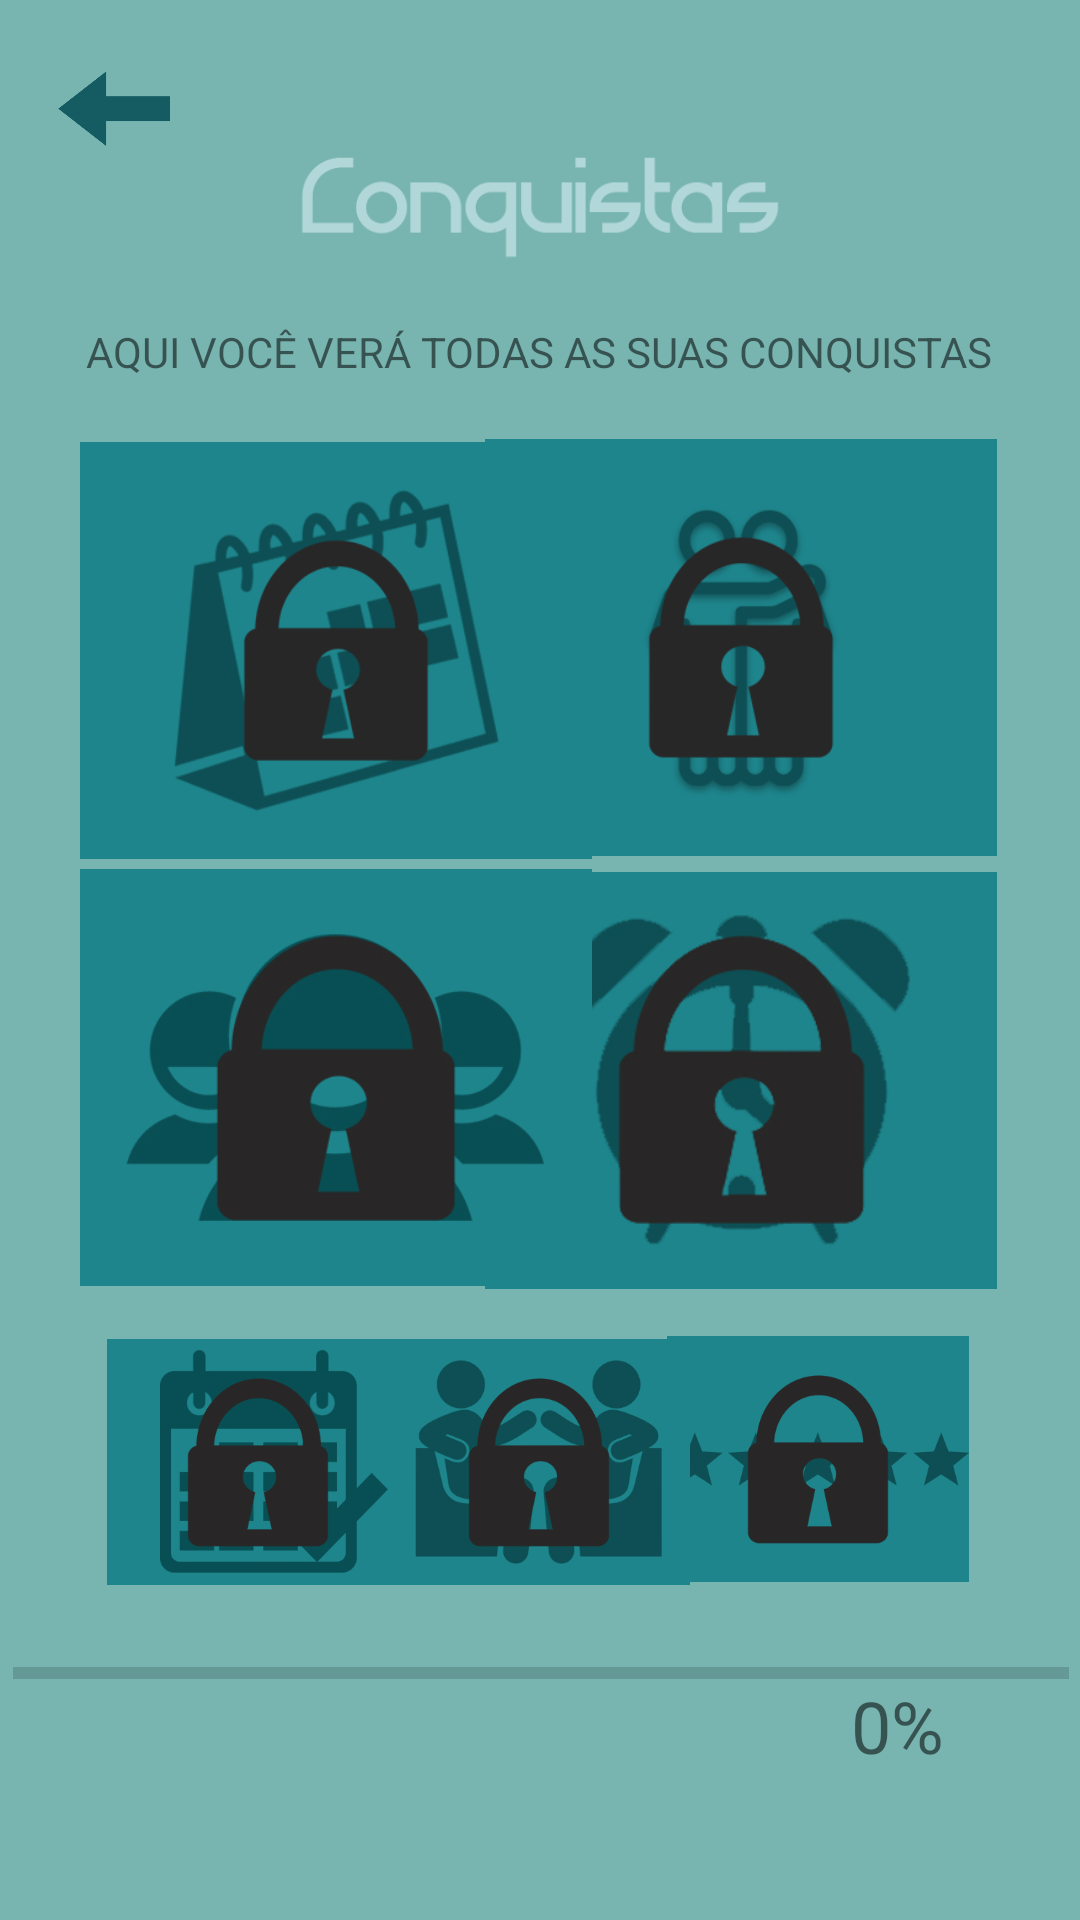

Icon click points for this 1080 × 1920 phone screenshot, format (x=x, y=y):
btnvoltar: (x=114, y=109)
conquista rateapp bloqueado: (x=808, y=1459)
conquista terminousemestre bloqueada: (x=268, y=1462)
